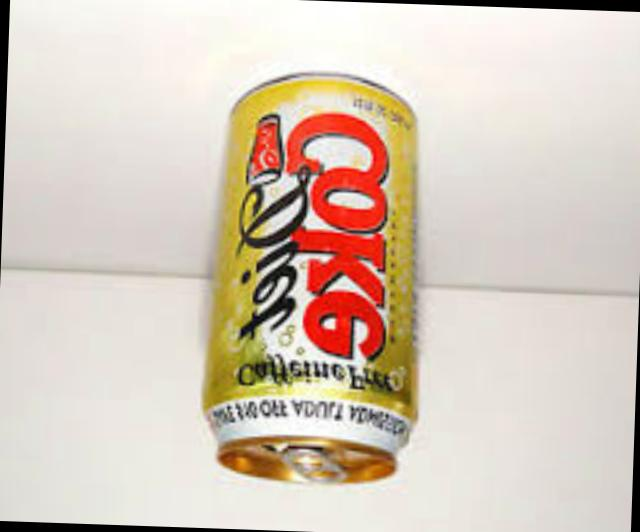metal: (199, 80, 411, 487)
